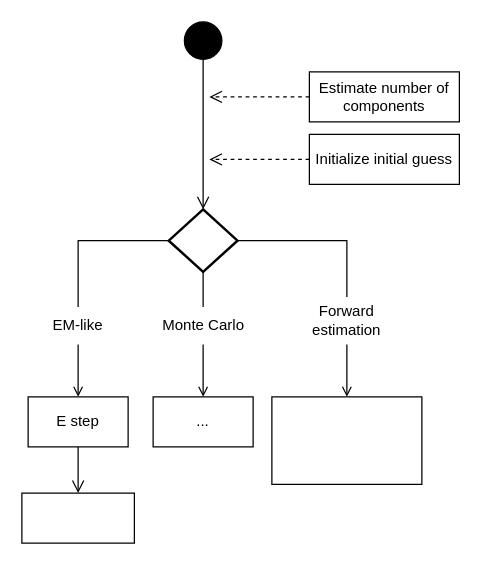
This 481x565 diagram has some shape labels left out. Here are the shapes that lost their labels. From the top down, the centre of each, then its label:
At point 346,440: "MLE, Moments, ...".
At point 77,517: "M step".
